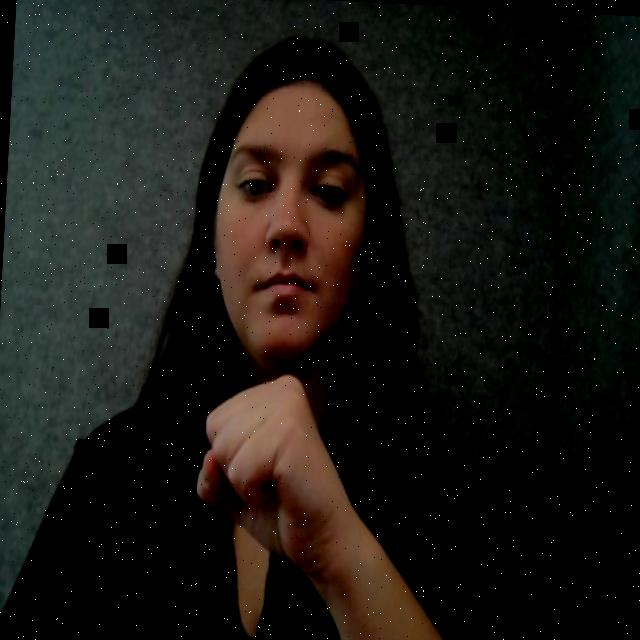Rock: (190, 370, 346, 569)
